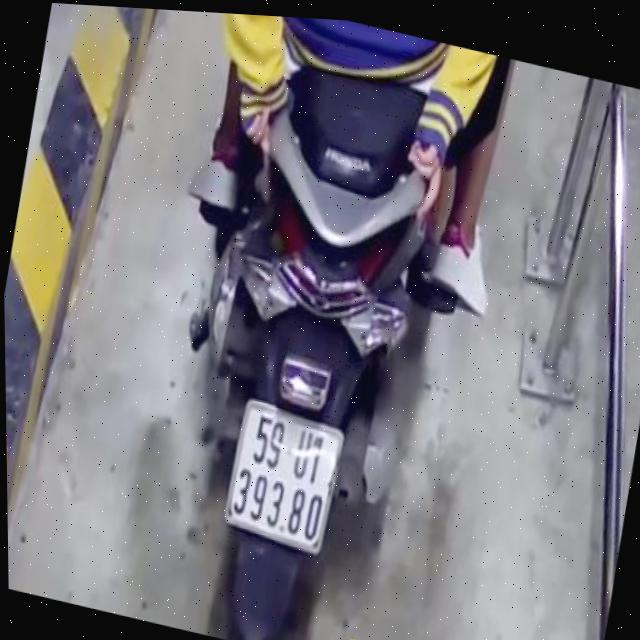motorcycle: (135, 46, 472, 640)
plate: (213, 390, 355, 563)
